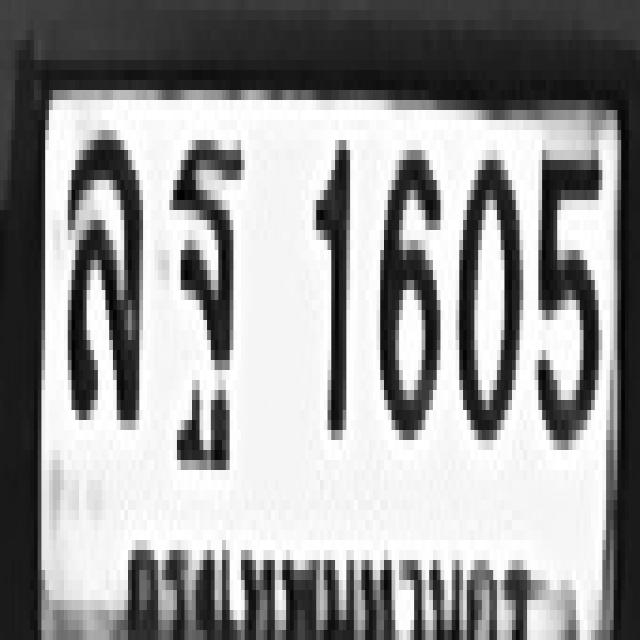0: (456, 150, 516, 430)
1: (313, 130, 347, 430)
25ThorThan: (169, 130, 241, 420)
45LorLing: (64, 125, 139, 415)
5: (534, 140, 598, 440)
6: (376, 140, 436, 430)
Bangkok: (98, 497, 622, 640)
